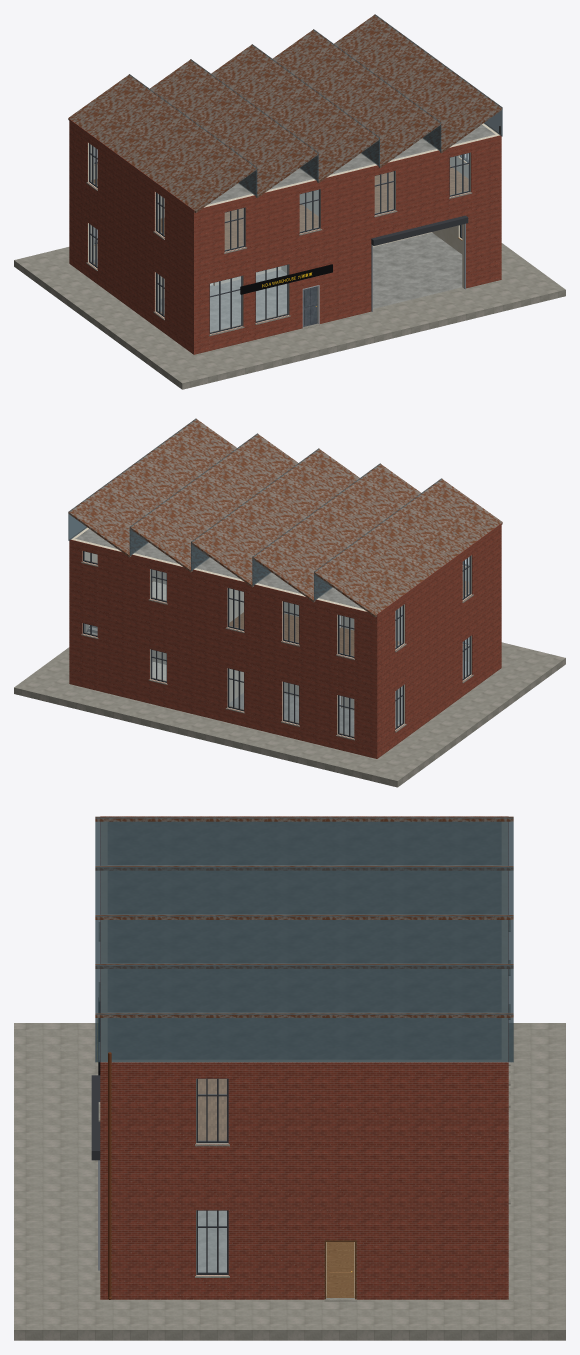
File: b_warehouse_loft.gltf
3 renders of one model, top to bottom at view 1: azimuth 30°, elevation 25°; view 2: azimuth 150°, elevation 25°; view 3: azimuth 270°, elevation 25°, orthographic. The views are drawn at different scales.
Parts seen in each view (by area): view 1: S_warehouse_loft, D_warehouse_loft_F1_S3_Door0; view 2: S_warehouse_loft; view 3: S_warehouse_loft, D_warehouse_loft_F1_E1_Door0.
Part boxes in pixels (x1,y1,x2,y2): S_warehouse_loft: (14, 14, 565, 389); D_warehouse_loft_F1_S3_Door0: (303, 286, 317, 326); S_warehouse_loft: (14, 418, 565, 787); S_warehouse_loft: (14, 816, 565, 1340); D_warehouse_loft_F1_E1_Door0: (326, 1242, 354, 1297).
Size of the model in its own units: 25 by 11.2 by 19.
Materials: 23 (12 with a texture image).
